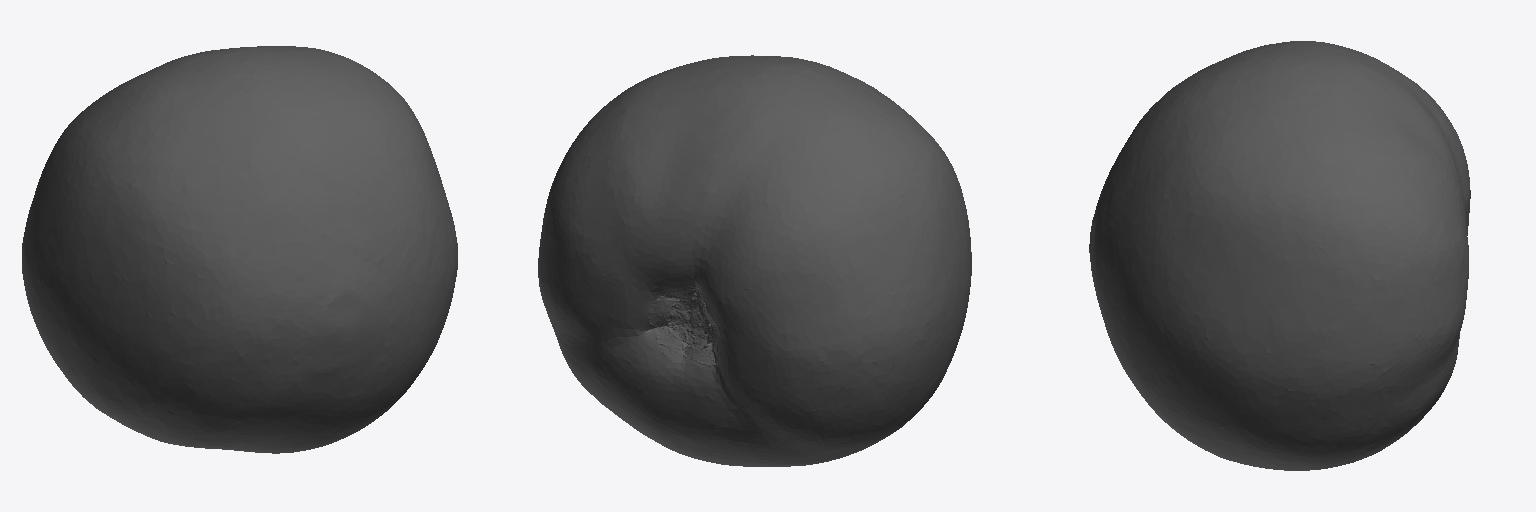
File: tomat.obj
The picture shows the model from 3 angles: view 1: azimuth 30°, elevation 25°; view 2: azimuth 150°, elevation 25°; view 3: azimuth 270°, elevation 25°; orthographic projection.
Bounding box in the file's own units: 1.37 × 1.31 × 1.2.